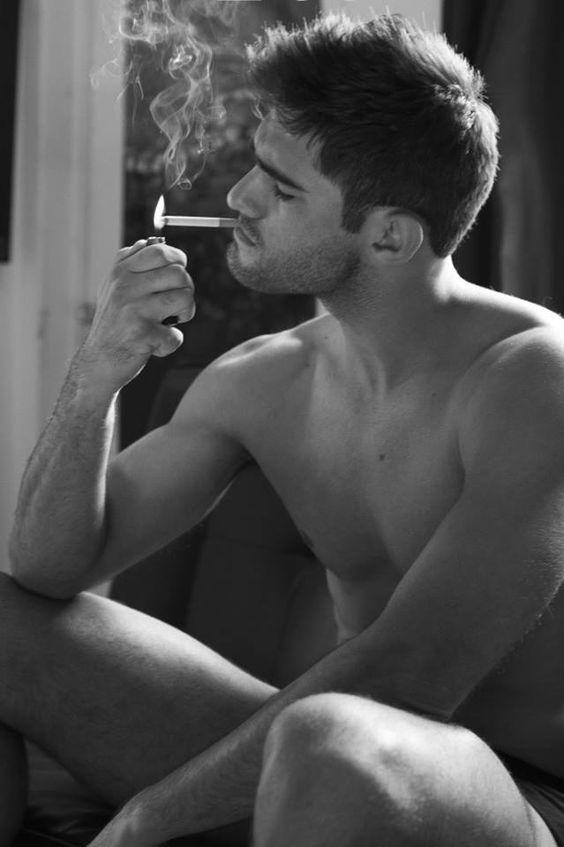cigarette: (156, 217, 242, 228)
